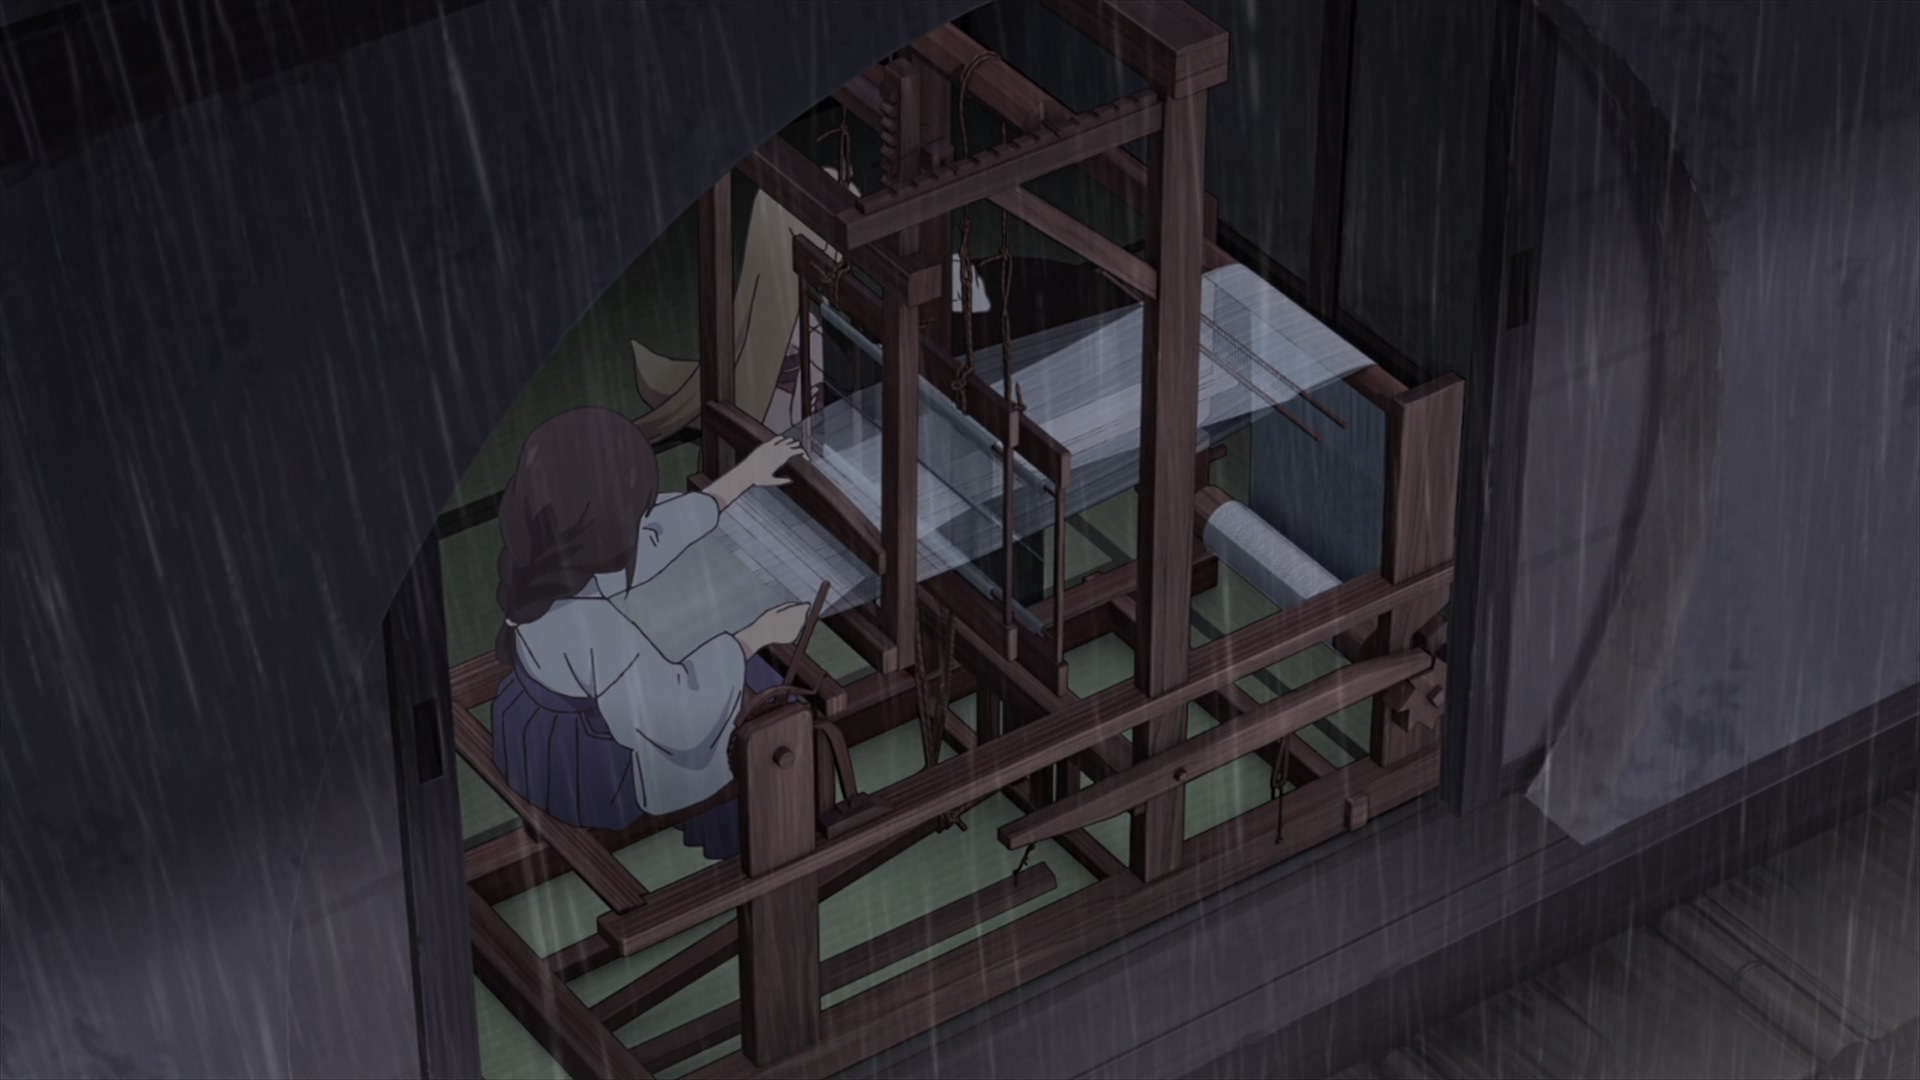其他: (489, 409, 808, 857)
